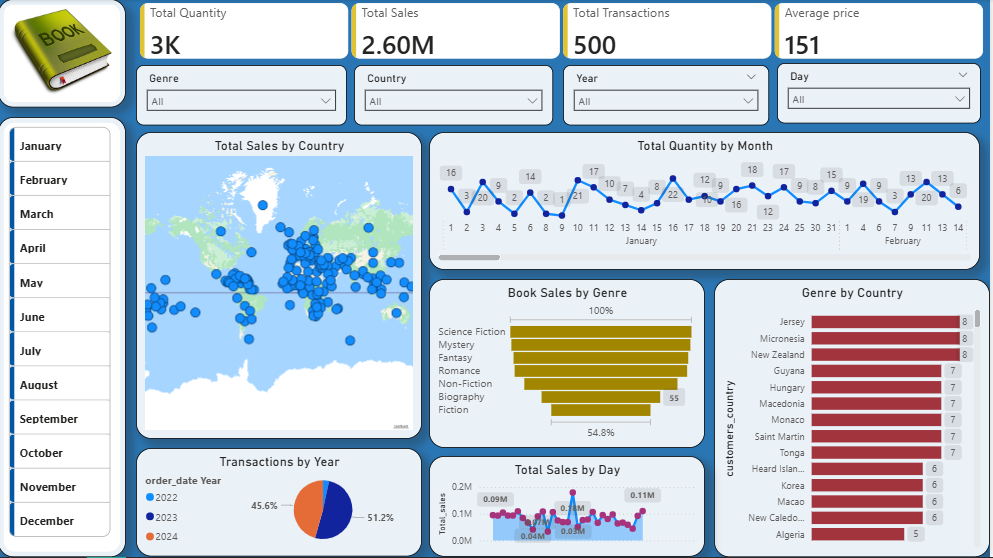

Layout of this report page (visuals, bound fields, positions):
{"tool":"powerbi","page":{"name":"Page 1","canvas":[1280,720],"ordinal":0},"visuals":[{"type":"shape","box":[0,0,164.8,140.2],"z":0},{"type":"image","box":[10.1,13,140.2,111.3],"z":1000},{"type":"shape","box":[0,151.8,164.8,568.2],"z":2000},{"type":"advancedSlicerVisual","fields":{"Values":["combine 3 tables.order_date.Variation.Date Hierarchy.Month"]},"box":[8.7,160.5,141.7,549.4],"z":3000},{"type":"cardVisual","fields":{"Data":["combine 3 tables.Total_quantity","combine 3 tables.Total_sales","combine 3 tables.Total_Transactions","combine 3 tables.Average_price"]},"box":[177.8,0,1101.7,82.4],"z":4000},{"type":"azureMap","title":"Total Sales by Country","fields":{"Category":["combine 3 tables.customers_country"]},"box":[177.8,172,368.7,396.1],"z":5000},{"type":"lineChart","title":"Total Quantity by Month","fields":{"Y":["combine 3 tables.Total_quantity"],"Category":["combine 3 tables.order_date.Variation.Date Hierarchy.Month","combine 3 tables.order_date.Variation.Date Hierarchy.Day"]},"box":[556.6,172,711.3,177.8],"z":6000},{"type":"clusteredBarChart","title":"Genre by Country","fields":{"Y":["CountNonNull(combine 3 tables.genre)"],"Category":["combine 3 tables.customers_country"]},"box":[923.9,361.4,355.7,358.6],"z":7000},{"type":"pieChart","title":"Transactions by Year","fields":{"Category":["combine 3 tables.order_date.Variation.Date Hierarchy.Year"],"Y":["combine 3 tables.Total_Transactions"]},"box":[177.8,579.8,368.7,140.2],"z":8000},{"type":"funnel","title":"Book Sales by Genre","fields":{"Y":["CountNonNull(combine 3 tables.customer_name)"],"Category":["combine 3 tables.genre"]},"box":[556.6,361.4,355.7,218.3],"z":9000},{"type":"areaChart","title":"Total Sales by Day","fields":{"Y":["combine 3 tables.Total_sales"],"Category":["combine 3 tables.order_date.Variation.Date Hierarchy.Day"]},"box":[556.6,589.9,355.7,130.1],"z":10000},{"type":"slicer","fields":{"Values":["combine 3 tables.genre"]},"box":[177.8,85.3,271.8,78.1],"z":12000},{"type":"slicer","fields":{"Values":["combine 3 tables.customers_country"]},"box":[459.8,85.3,257.3,78.1],"z":13000},{"type":"slicer","fields":{"Values":["combine 3 tables.Day Name"]},"box":[1004.8,82.4,263.1,78.1],"z":14000},{"type":"slicer","fields":{"Values":["combine 3 tables.order_date.Variation.Date Hierarchy.Year"]},"box":[728.7,85.3,266,78.1],"z":15000}]}

Visuals, with their boxes in screenshot pixels (x1, y1, x2, y2), scaled from the page's 1280x720 canvas onto the 993x558 screenshot:
shape: rect(0, 0, 128, 109)
image: rect(8, 10, 117, 96)
shape: rect(0, 118, 128, 557)
advancedSlicerVisual - combine 3 tables.order_date.Variation.Date Hierarchy.Month: rect(7, 124, 117, 550)
cardVisual - combine 3 tables.Total_quantity x combine 3 tables.Total_sales: rect(138, 0, 992, 64)
"Total Sales by Country" azureMap: rect(138, 133, 424, 440)
"Total Quantity by Month" lineChart: rect(432, 133, 984, 271)
"Genre by Country" clusteredBarChart: rect(717, 280, 992, 557)
"Transactions by Year" pieChart: rect(138, 449, 424, 557)
"Book Sales by Genre" funnel: rect(432, 280, 708, 449)
"Total Sales by Day" areaChart: rect(432, 457, 708, 557)
slicer - combine 3 tables.genre: rect(138, 66, 349, 127)
slicer - combine 3 tables.customers_country: rect(357, 66, 556, 127)
slicer - combine 3 tables.Day Name: rect(780, 64, 984, 124)
slicer - combine 3 tables.order_date.Variation.Date Hierarchy.Year: rect(565, 66, 772, 127)
